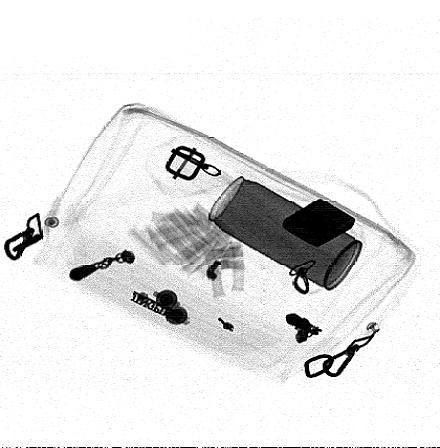Lighter: (281, 198, 356, 249)
